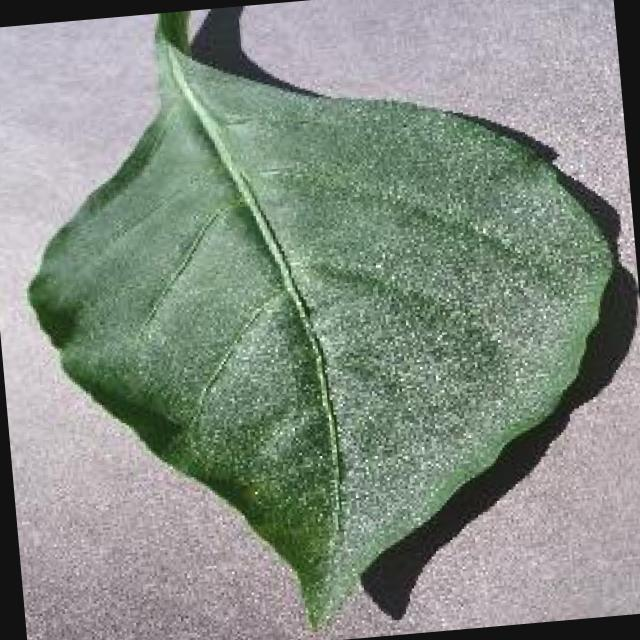healthy: (31, 13, 612, 627)
